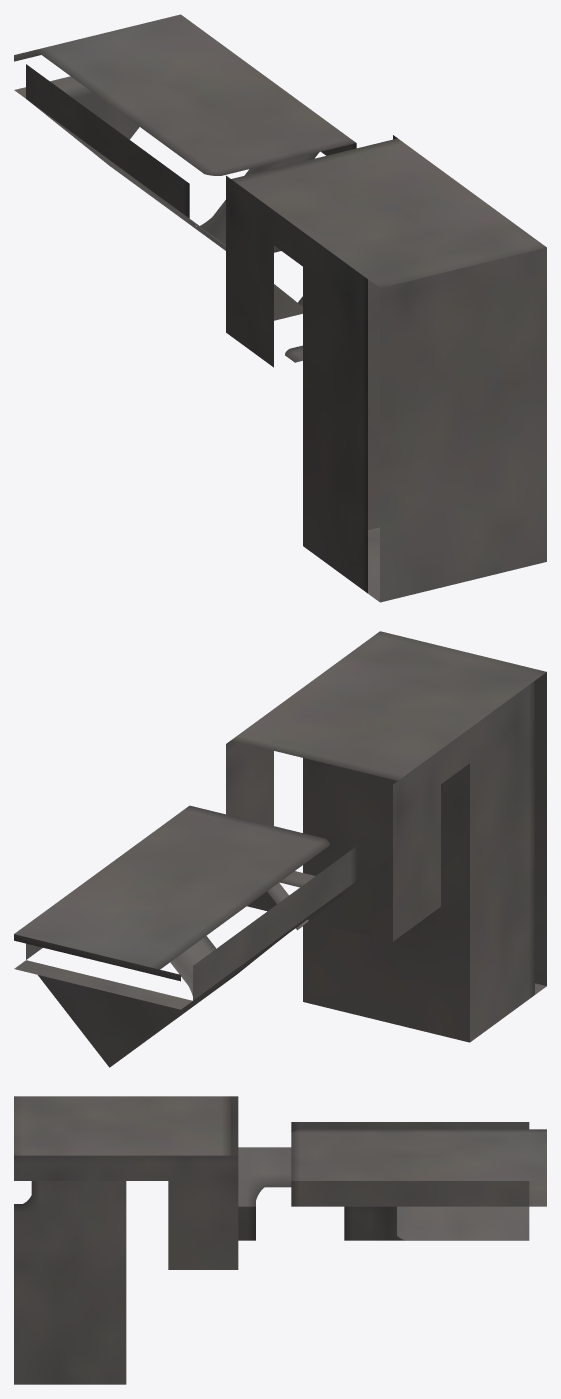
Rendered from toolblade.obj.
3 renders of one model, top to bottom at view 1: azimuth 30°, elevation 25°; view 2: azimuth 150°, elevation 25°; view 3: azimuth 270°, elevation 25°, orthographic. The views are drawn at different scales.
Visible parts, largest first — view 1: toolblade; view 2: toolblade; view 3: toolblade.
Boxes of the visible parts, <box> form: toolblade: <box>14,14,546,602</box>; toolblade: <box>14,631,546,1067</box>; toolblade: <box>14,1096,546,1384</box>.
Bounding box in the file's own units: 0.5 × 0.9 × 1.9.
